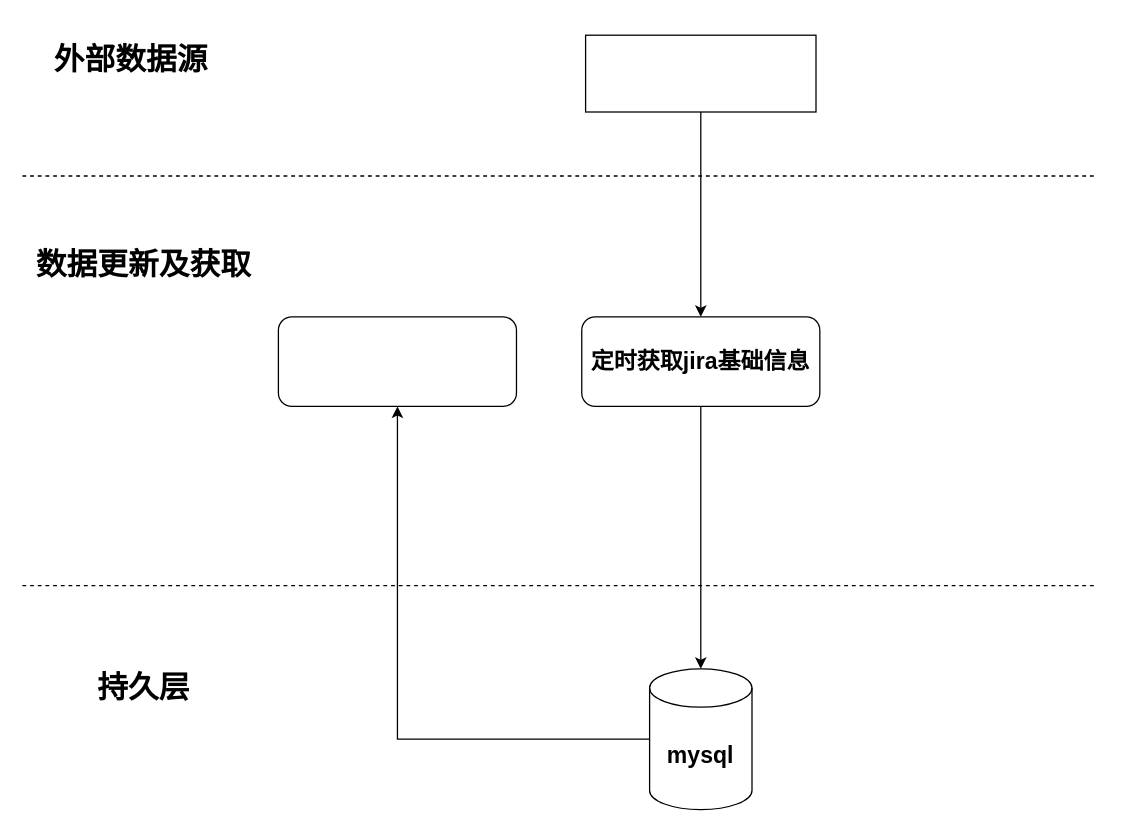
This 1121x832 diagram has some shape labels left out. Here are the shapes that lost their labels. From the top down, the box of each, then its label:
(584, 34, 816, 112): jira基本信息接口
(277, 316, 516, 406): 资源消耗查询接口
